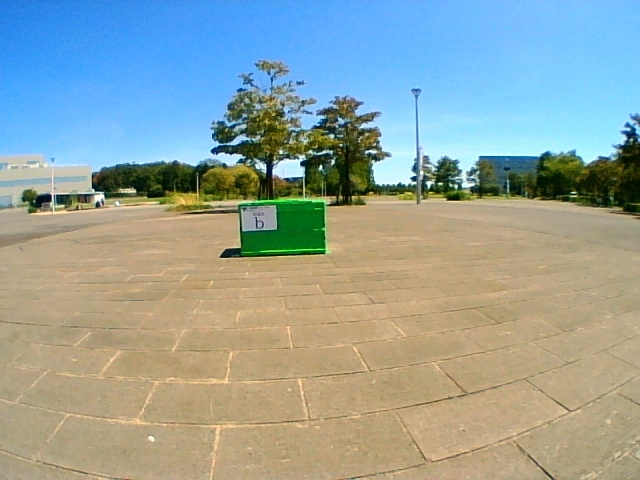green_box: (238, 200, 327, 256)
tag_b: (242, 206, 276, 230)
